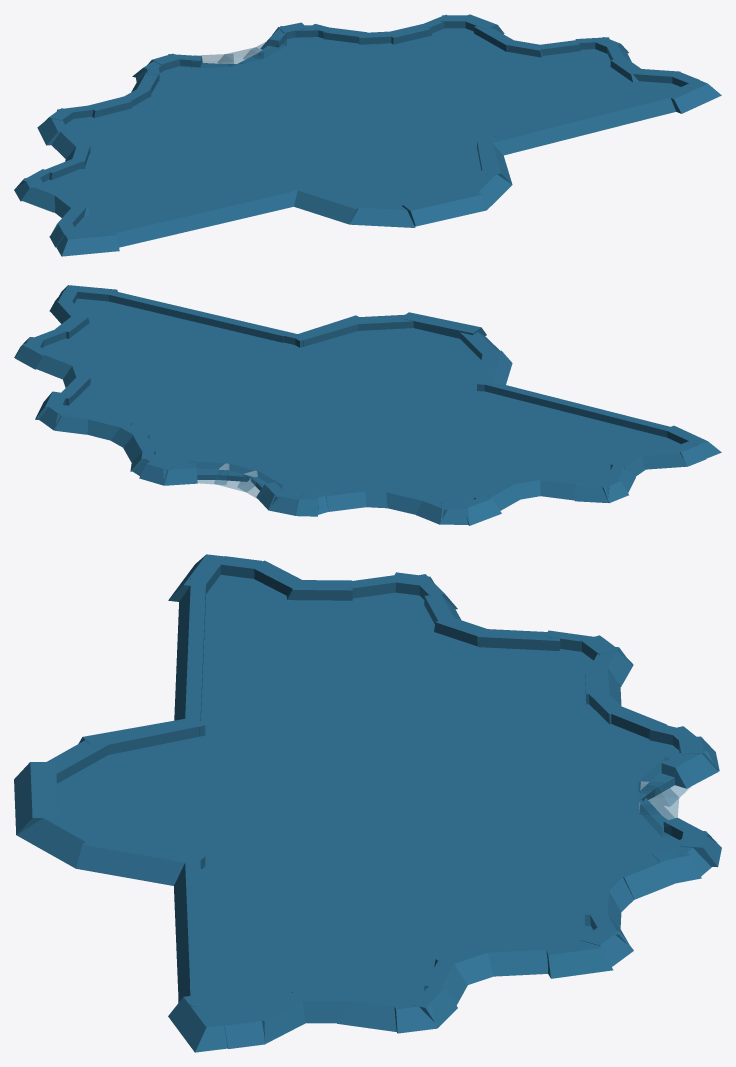
File: SM_Prop_Fountain_02_Collision.fbx
The picture shows the model from 3 angles, top to bottom: view 1: azimuth 30°, elevation 25°; view 2: azimuth 150°, elevation 25°; view 3: azimuth 270°, elevation 25°; orthographic projection. The views are drawn at different scales.
Parts seen in each view (by area): view 1: SM_Prop_Fountain_02_Collision; view 2: SM_Prop_Fountain_02_Collision; view 3: SM_Prop_Fountain_02_Collision.
Part boxes in pixels (left/top/right/bottom): SM_Prop_Fountain_02_Collision: left=14, top=14, right=721, bottom=256; SM_Prop_Fountain_02_Collision: left=14, top=285, right=721, bottom=525; SM_Prop_Fountain_02_Collision: left=14, top=554, right=721, bottom=1052.
Bounding box in the file's own units: 4625 × 92.54 × 2834.
